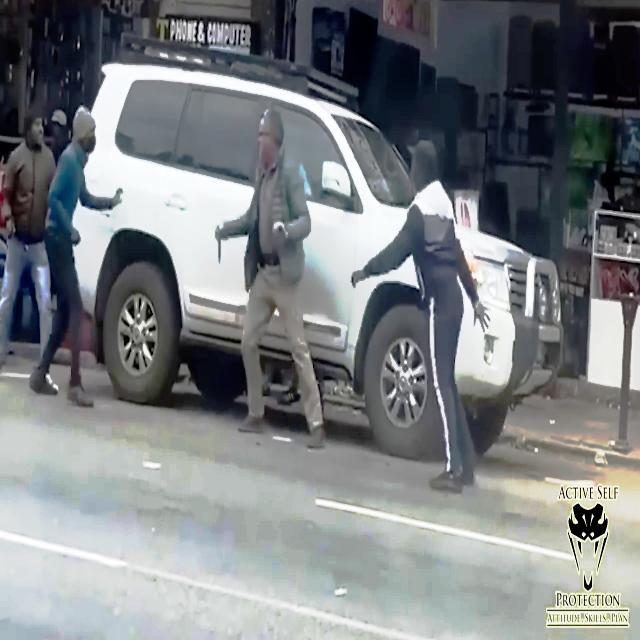Knife: (210, 223, 233, 272)
